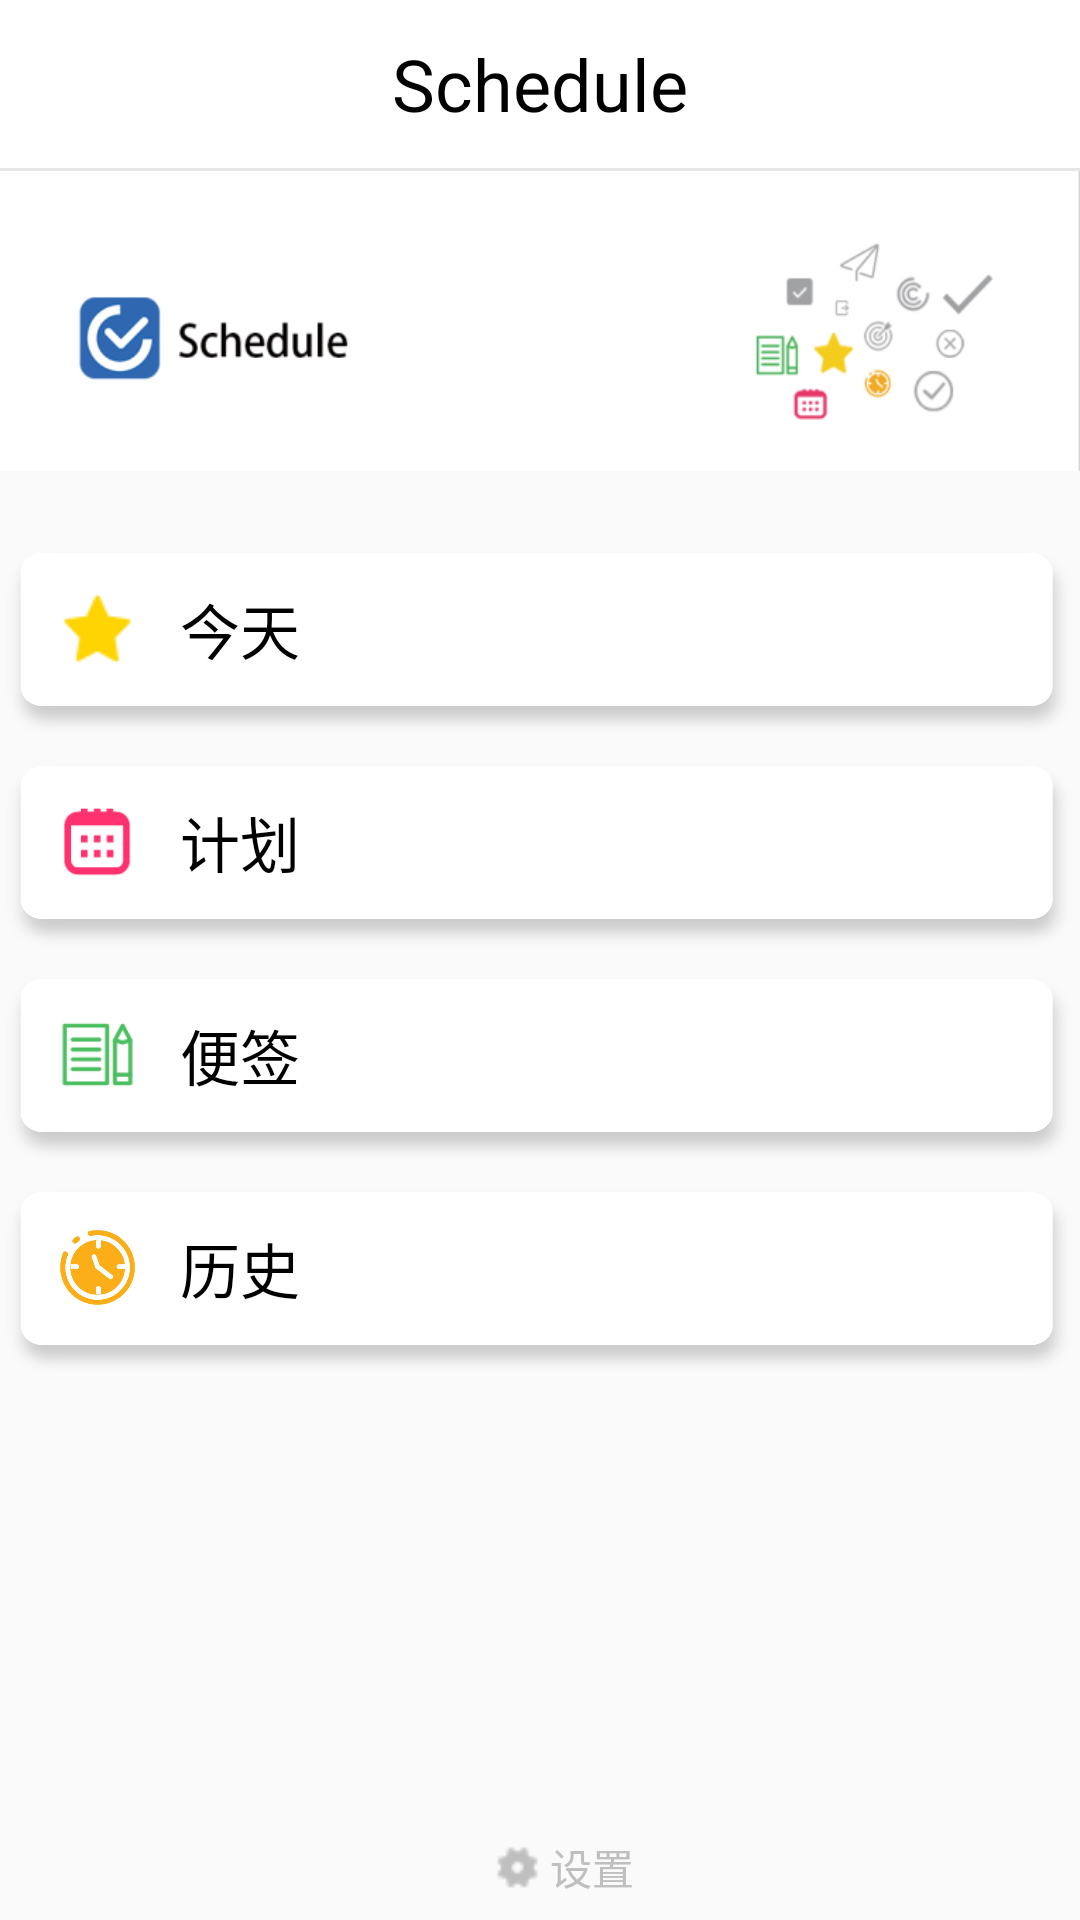

Where icons sit on this 1080w x 1920h app screen, as [left=x1, top=y1, right=x2, bottom=y2]:
date: [left=64, top=808, right=131, bottom=876]
history: [left=60, top=1230, right=135, bottom=1305]
log: [left=62, top=1023, right=133, bottom=1086]
